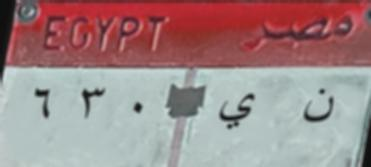0: (126, 92, 151, 128)
3: (76, 81, 108, 126)
6: (30, 82, 55, 126)
noon: (299, 82, 337, 132)
yaa: (218, 84, 258, 142)
